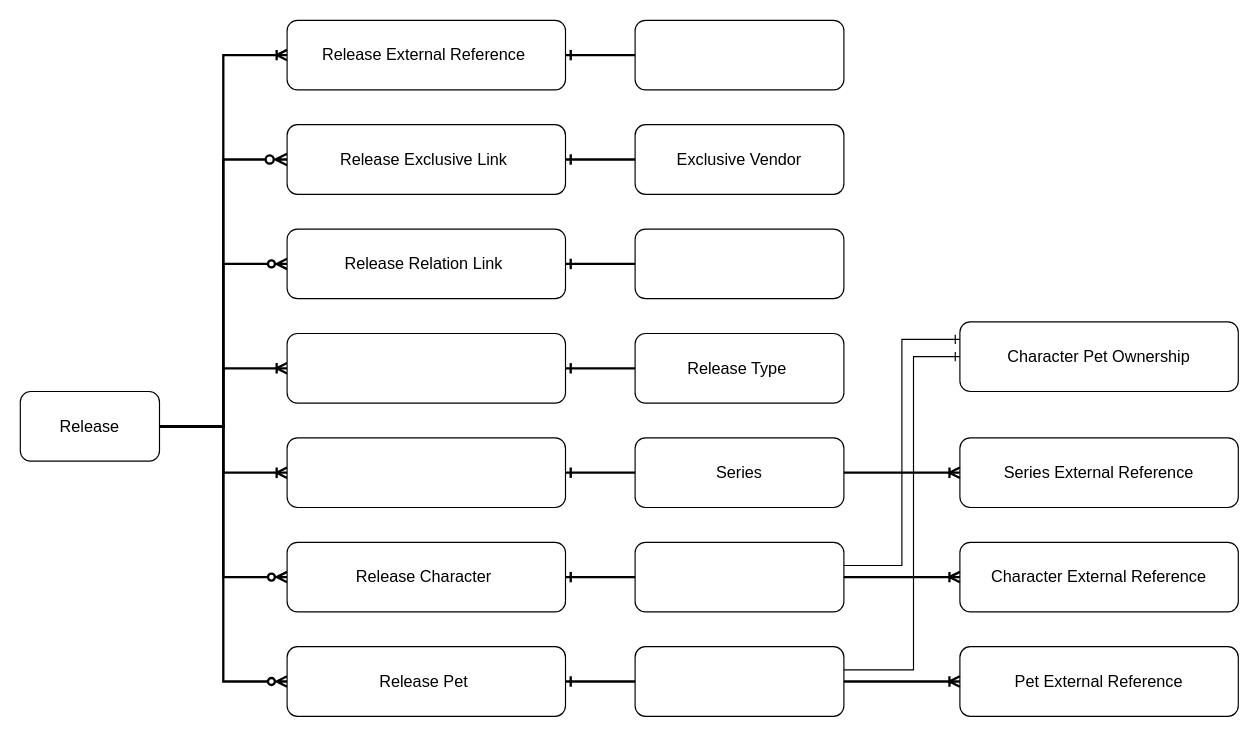
The diagram is 1259 pixels wide and 737 high, and some of its shapes have lost their labels. The shapes that lost their labels are listed below. From the top down, each one's centre as x and y in pixels, then its label:
At pixel 739 54: "Source Country".
At pixel 739 263: "Release Relation".
At pixel 426 367: "Release Type Link".
At pixel 426 472: "Release Series Link".
At pixel 739 576: "Character".
At pixel 739 681: "Pet".
